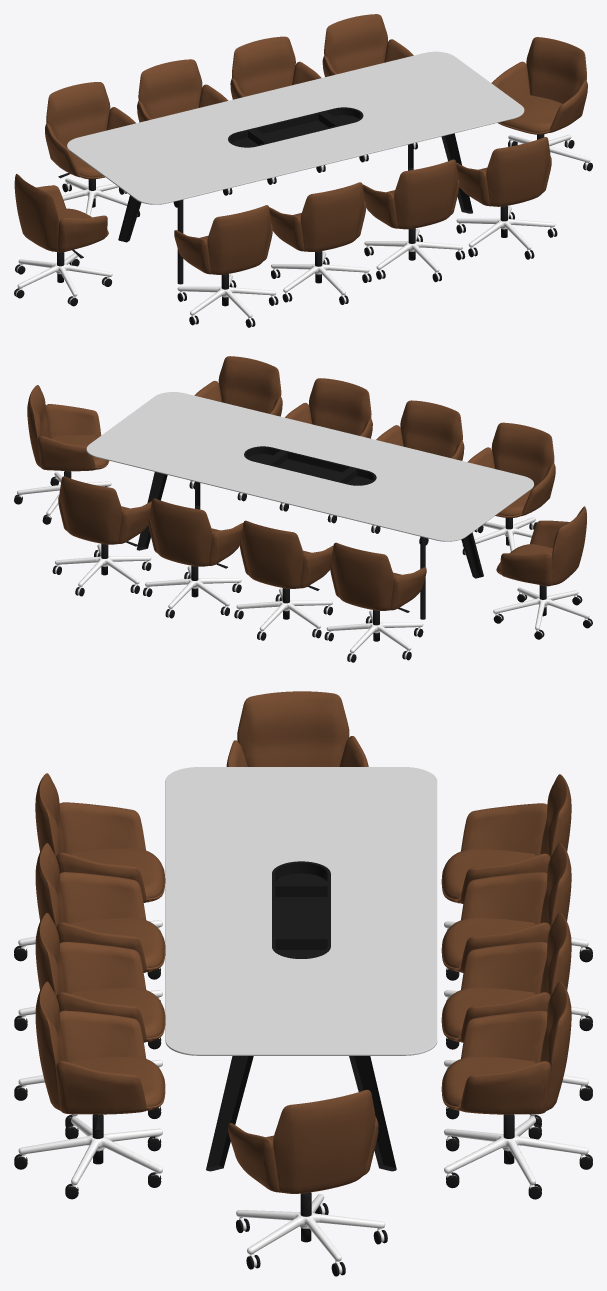
Rendered from Conference_Table_2.glb.
3 views of the same model, one above another, from view 1: azimuth 30°, elevation 25°; view 2: azimuth 150°, elevation 25°; view 3: azimuth 270°, elevation 25° (orthographic). The views are drawn at different scales.
Parts seen in each view (by area): view 1: Mesh710 Group57 SPG_22_5_3D_dwg_2_3 Haworth_Immerse_table__. (×9), Mesh645 Group24 Haworth_Immerse_table___Poppy_chair1 Model, Mesh710 Group57 SPG_22_5_3D_dwg_2_3 Haworth_Immerse_table___, Mesh646 Component_1_1 Haworth_Immerse_table___Poppy_chair1 M, Mesh635 Group23 Haworth_Immerse_table___Poppy_chair1 Model; view 2: Mesh710 Group57 SPG_22_5_3D_dwg_2_3 Haworth_Immerse_table__. (×9), Mesh645 Group24 Haworth_Immerse_table___Poppy_chair1 Model, Mesh710 Group57 SPG_22_5_3D_dwg_2_3 Haworth_Immerse_table___, Mesh646 Component_1_1 Haworth_Immerse_table___Poppy_chair1 M, Mesh635 Group23 Haworth_Immerse_table___Poppy_chair1 Model; view 3: Mesh710 Group57 SPG_22_5_3D_dwg_2_3 Haworth_Immerse_table__. (×9), Mesh645 Group24 Haworth_Immerse_table___Poppy_chair1 Model, Mesh710 Group57 SPG_22_5_3D_dwg_2_3 Haworth_Immerse_table___, Mesh646 Component_1_1 Haworth_Immerse_table___Poppy_chair1 M, Mesh635 Group23 Haworth_Immerse_table___Poppy_chair1 Model.
Part boxes in pixels (x1,y1,x2,y2): Mesh710 Group57 SPG_22_5_3D_dwg_2_3 Haworth_Immerse_table__. (×9): (14,14,592,306); Mesh645 Group24 Haworth_Immerse_table___Poppy_chair1 Model: (67,51,524,204); Mesh710 Group57 SPG_22_5_3D_dwg_2_3 Haworth_Immerse_table___: (174,205,278,327); Mesh646 Component_1_1 Haworth_Immerse_table___Poppy_chair1 M: (228,107,363,147); Mesh635 Group23 Haworth_Immerse_table___Poppy_chair1 Model: (118,133,472,284); Mesh710 Group57 SPG_22_5_3D_dwg_2_3 Haworth_Immerse_table__. (×9): (14,356,592,662); Mesh645 Group24 Haworth_Immerse_table___Poppy_chair1 Model: (86,392,534,541); Mesh710 Group57 SPG_22_5_3D_dwg_2_3 Haworth_Immerse_table___: (462,422,555,554); Mesh646 Component_1_1 Haworth_Immerse_table___Poppy_chair1 M: (244,446,376,485); Mesh635 Group23 Haworth_Immerse_table___Poppy_chair1 Model: (136,472,483,619); Mesh710 Group57 SPG_22_5_3D_dwg_2_3 Haworth_Immerse_table__. (×9): (14,691,592,1276); Mesh645 Group24 Haworth_Immerse_table___Poppy_chair1 Model: (165,767,437,1055); Mesh710 Group57 SPG_22_5_3D_dwg_2_3 Haworth_Immerse_table___: (14,773,165,979); Mesh646 Component_1_1 Haworth_Immerse_table___Poppy_chair1 M: (272,861,330,958); Mesh635 Group23 Haworth_Immerse_table___Poppy_chair1 Model: (206,1056,396,1171).
Bounding box in the file's own units: 4.55 × 0.8356 × 2.59.
5 materials, 1 textured.
